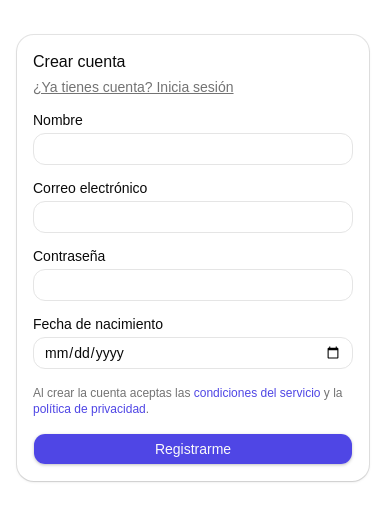
Test: PaginaRegistro › si el correo ya existe, muestra el error y no navega
Step 1. Type "ana@example.com" into the field labelled "Correo electrónico" → x=193, y=217, box [33,201,353,233]
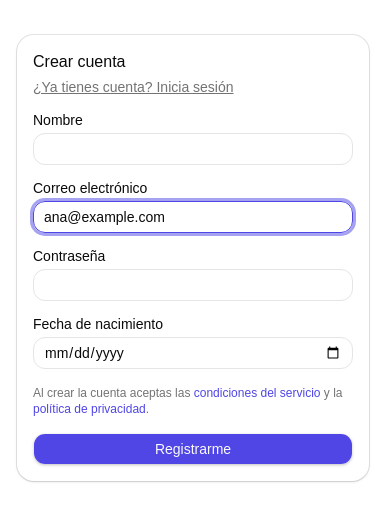
Step 2. Type "Abcdefg1" into the password field labelled "Contraseña" → x=193, y=285, box [33,269,353,301]
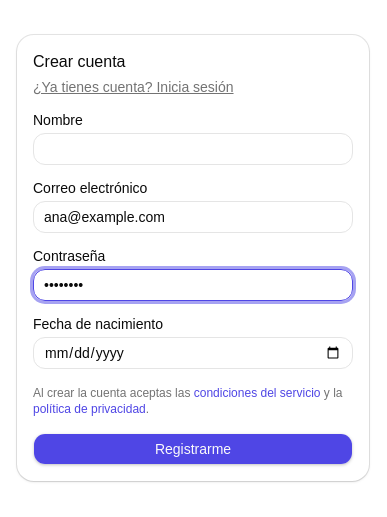
Step 3. Type "1990-01-01" into the date field labelled "Fecha de nacimiento" → x=193, y=353, box [33,337,353,369]
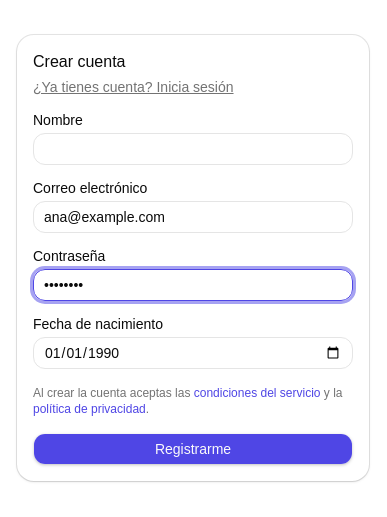
Step 4. Click the button "Registrarme" → x=193, y=449, box [33,433,353,465]
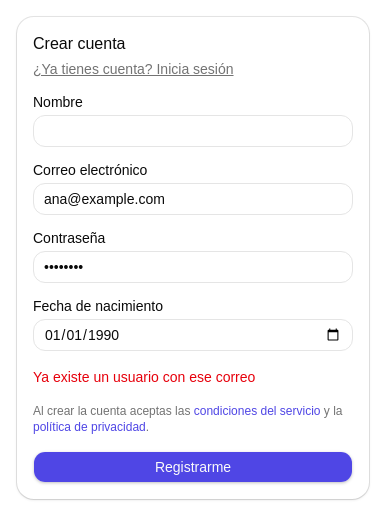
Now the text "Ya existe un usuario con ese correo" is shown, box [33,369,255,385]
